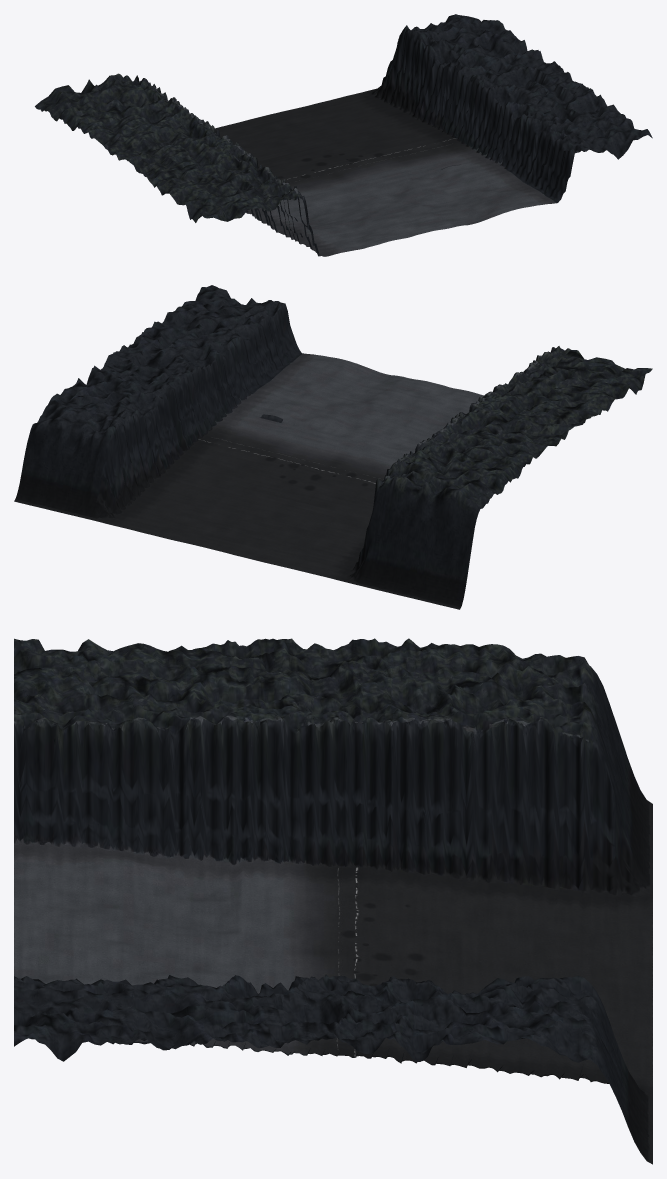
File: beach-v2.glb
3 renders of one model, top to bottom at view 1: azimuth 30°, elevation 25°; view 2: azimuth 150°, elevation 25°; view 3: azimuth 270°, elevation 25°, orthographic. The views are drawn at different scales.
Bounding box in the file's own units: 120 × 25.85 × 90.
1 material, 1 textured.
